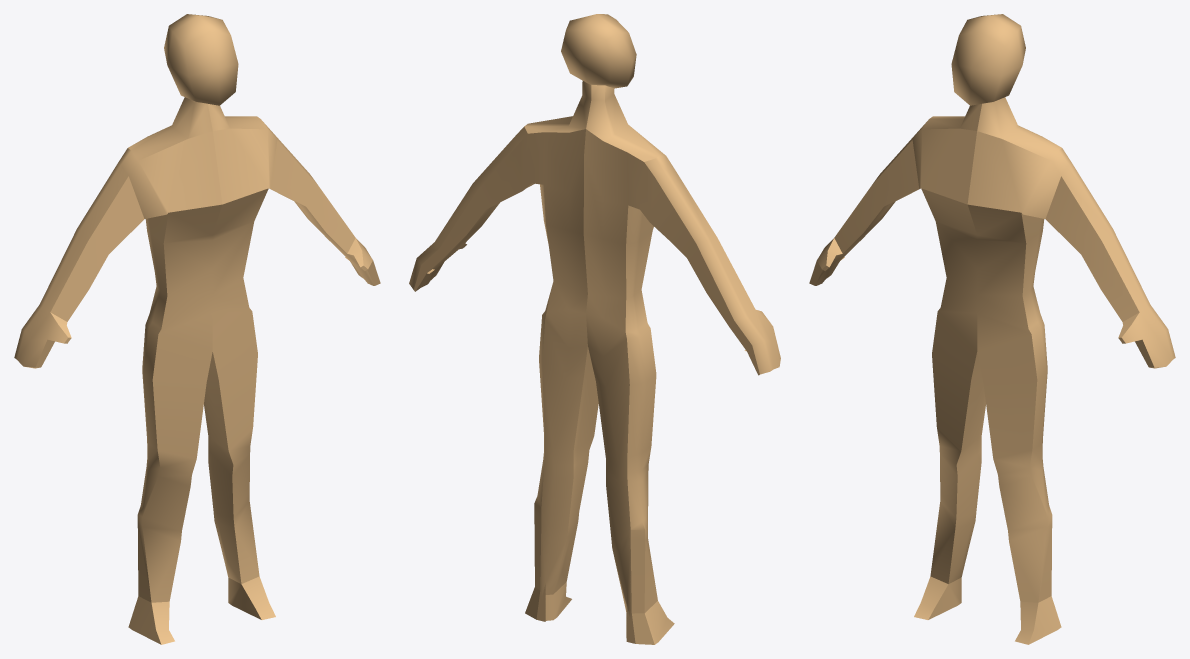
File: man_unrigged.fbx
3 views of the same model, side by side, from view 1: azimuth 30°, elevation 25°; view 2: azimuth 150°, elevation 25°; view 3: azimuth 330°, elevation 25° (orthographic).
Parts seen in each view (by area): view 1: Man; view 2: Man; view 3: Man.
Boxes of the visible parts, left/top/right/bottom form: Man: left=14, top=14, right=380, bottom=644; Man: left=409, top=14, right=780, bottom=644; Man: left=809, top=14, right=1175, bottom=644.
Size of the model in its own units: 6.45 by 10.41 by 1.22.
